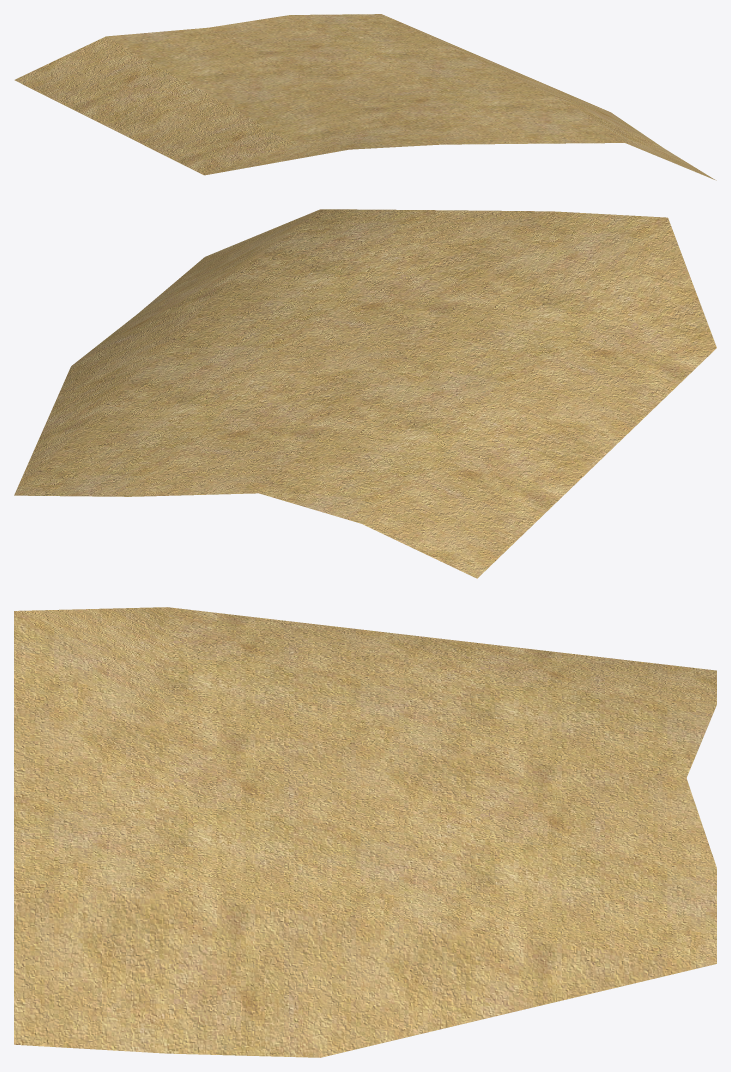
File: Mission4_Zone01_Patch01.glb
3 renders of one model, top to bottom at view 1: azimuth 30°, elevation 25°; view 2: azimuth 150°, elevation 25°; view 3: azimuth 270°, elevation 25°, orthographic. The views are drawn at different scales.
Visible parts, largest first — view 1: MISSION4_ZONE01_PATCH01; view 2: MISSION4_ZONE01_PATCH01; view 3: MISSION4_ZONE01_PATCH01.
Boxes of the visible parts, x1,y1,x2,y2 form: MISSION4_ZONE01_PATCH01: (14,14,716,180); MISSION4_ZONE01_PATCH01: (14,209,716,578); MISSION4_ZONE01_PATCH01: (14,607,716,1057).
Bounding box in the file's own units: 20 × 5.41 × 18.34.
Materials: 1 (1 with a texture image).
